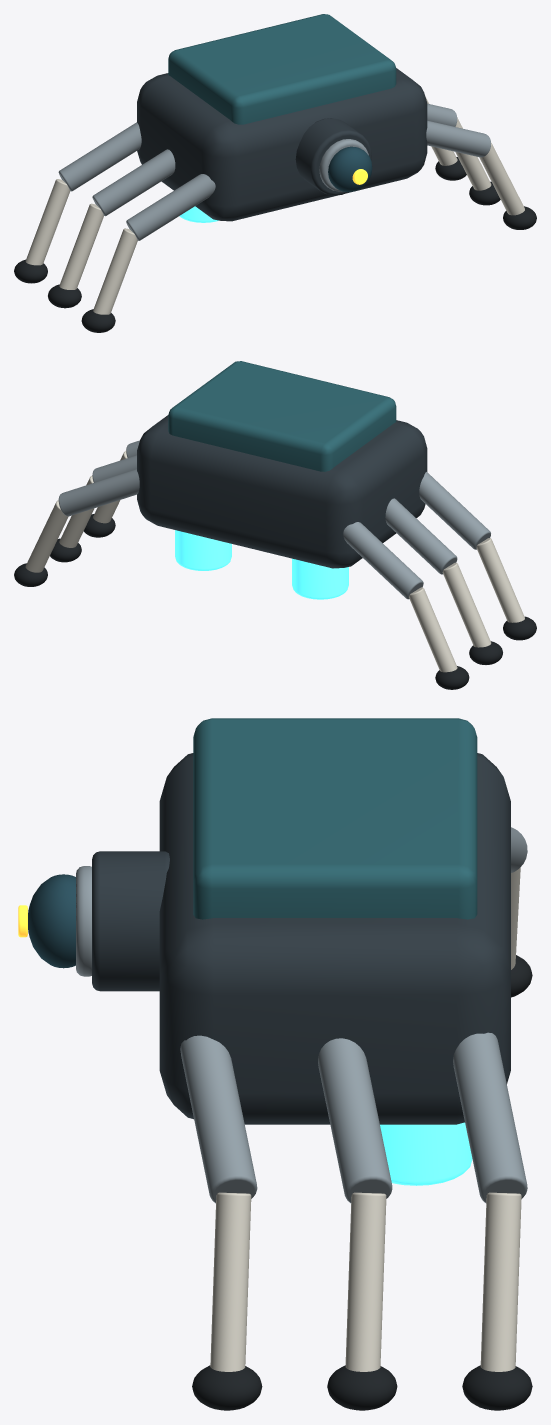
File: tool_spider.glb
3 renders of one model, top to bottom at view 1: azimuth 30°, elevation 25°; view 2: azimuth 150°, elevation 25°; view 3: azimuth 270°, elevation 25°, orthographic. The views are drawn at different scales.
Visible parts, largest first — view 1: ToolSpider_mesh, LegPivot_-1_0_mesh, LegPivot_-1_2_mesh, LegPivot_-1_1_mesh, LegPivot_1_0_mesh, LegPivot_1_1_mesh, LegPivot_1_2_mesh; view 2: ToolSpider_mesh, LegPivot_-1_2_mesh, LegPivot_-1_0_mesh, LegPivot_-1_1_mesh, LegPivot_1_2_mesh, LegPivot_1_1_mesh, LegPivot_1_0_mesh; view 3: ToolSpider_mesh, LegPivot_1_2_mesh, LegPivot_1_0_mesh, LegPivot_1_1_mesh, LegPivot_-1_2_mesh.
Part boxes in pixels (left/top/right/bottom): ToolSpider_mesh: left=137, top=14, right=427, bottom=222; LegPivot_-1_0_mesh: left=81, top=174, right=215, bottom=332; LegPivot_-1_2_mesh: left=14, top=122, right=141, bottom=283; LegPivot_-1_1_mesh: left=48, top=149, right=175, bottom=308; LegPivot_1_0_mesh: left=426, top=120, right=536, bottom=229; LegPivot_1_1_mesh: left=427, top=103, right=500, bottom=205; LegPivot_1_2_mesh: left=421, top=87, right=466, bottom=180; ToolSpider_mesh: left=137, top=361, right=427, bottom=599; LegPivot_-1_2_mesh: left=343, top=522, right=469, bottom=689; LegPivot_-1_0_mesh: left=419, top=472, right=536, bottom=640; LegPivot_-1_1_mesh: left=385, top=498, right=502, bottom=664; LegPivot_1_2_mesh: left=14, top=469, right=139, bottom=586; LegPivot_1_1_mesh: left=50, top=455, right=136, bottom=562; LegPivot_1_0_mesh: left=83, top=440, right=139, bottom=537; ToolSpider_mesh: left=18, top=718, right=510, bottom=1185; LegPivot_1_2_mesh: left=453, top=1032, right=532, bottom=1410; LegPivot_1_0_mesh: left=180, top=1035, right=262, bottom=1410; LegPivot_1_1_mesh: left=318, top=1038, right=397, bottom=1410; LegPivot_-1_2_mesh: left=511, top=827, right=532, bottom=997.
Bounding box in the file's own units: 0.77 × 0.3335 × 0.3805.
